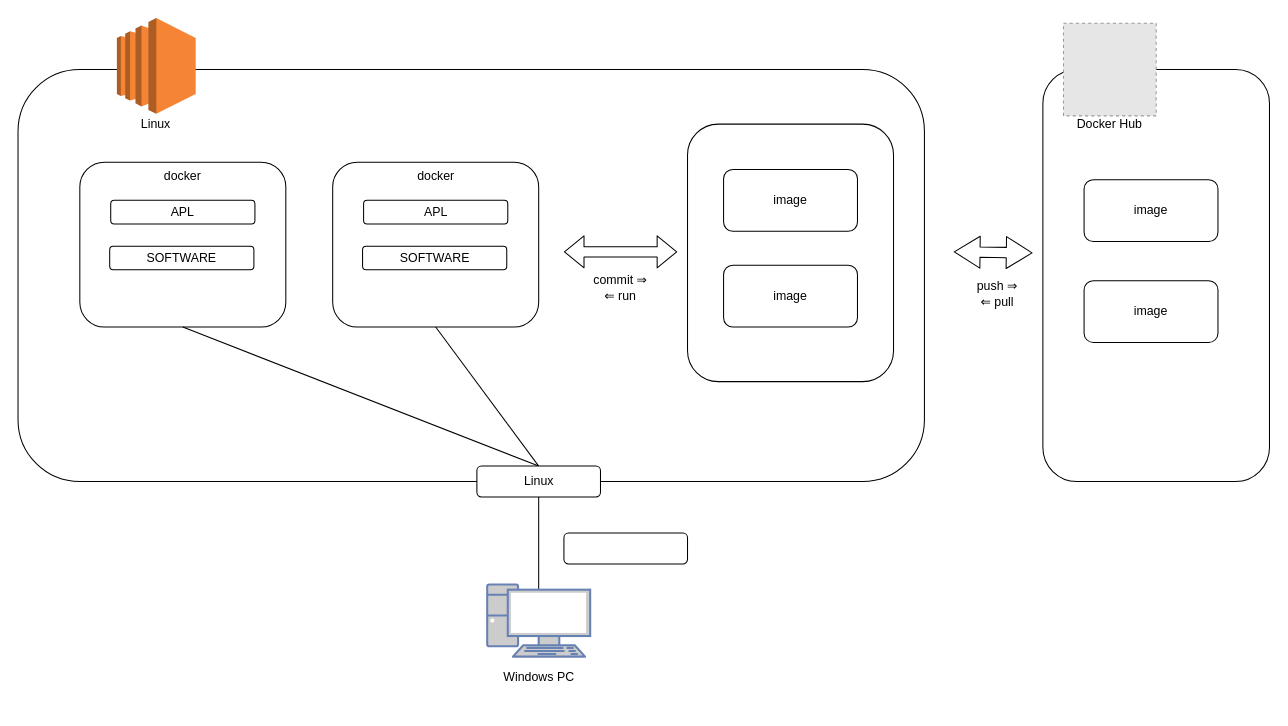
Image size: 1288x726. Some labels were removed from this diagram. Grey dashed boxes stand in for pictures. The shapes that lost their labels are listed below. From the top down, each one's box as (x1, y1, x2, y2) in pixels, then its label:
(686, 123, 894, 382): docker image
(563, 532, 688, 564): Git Bash
